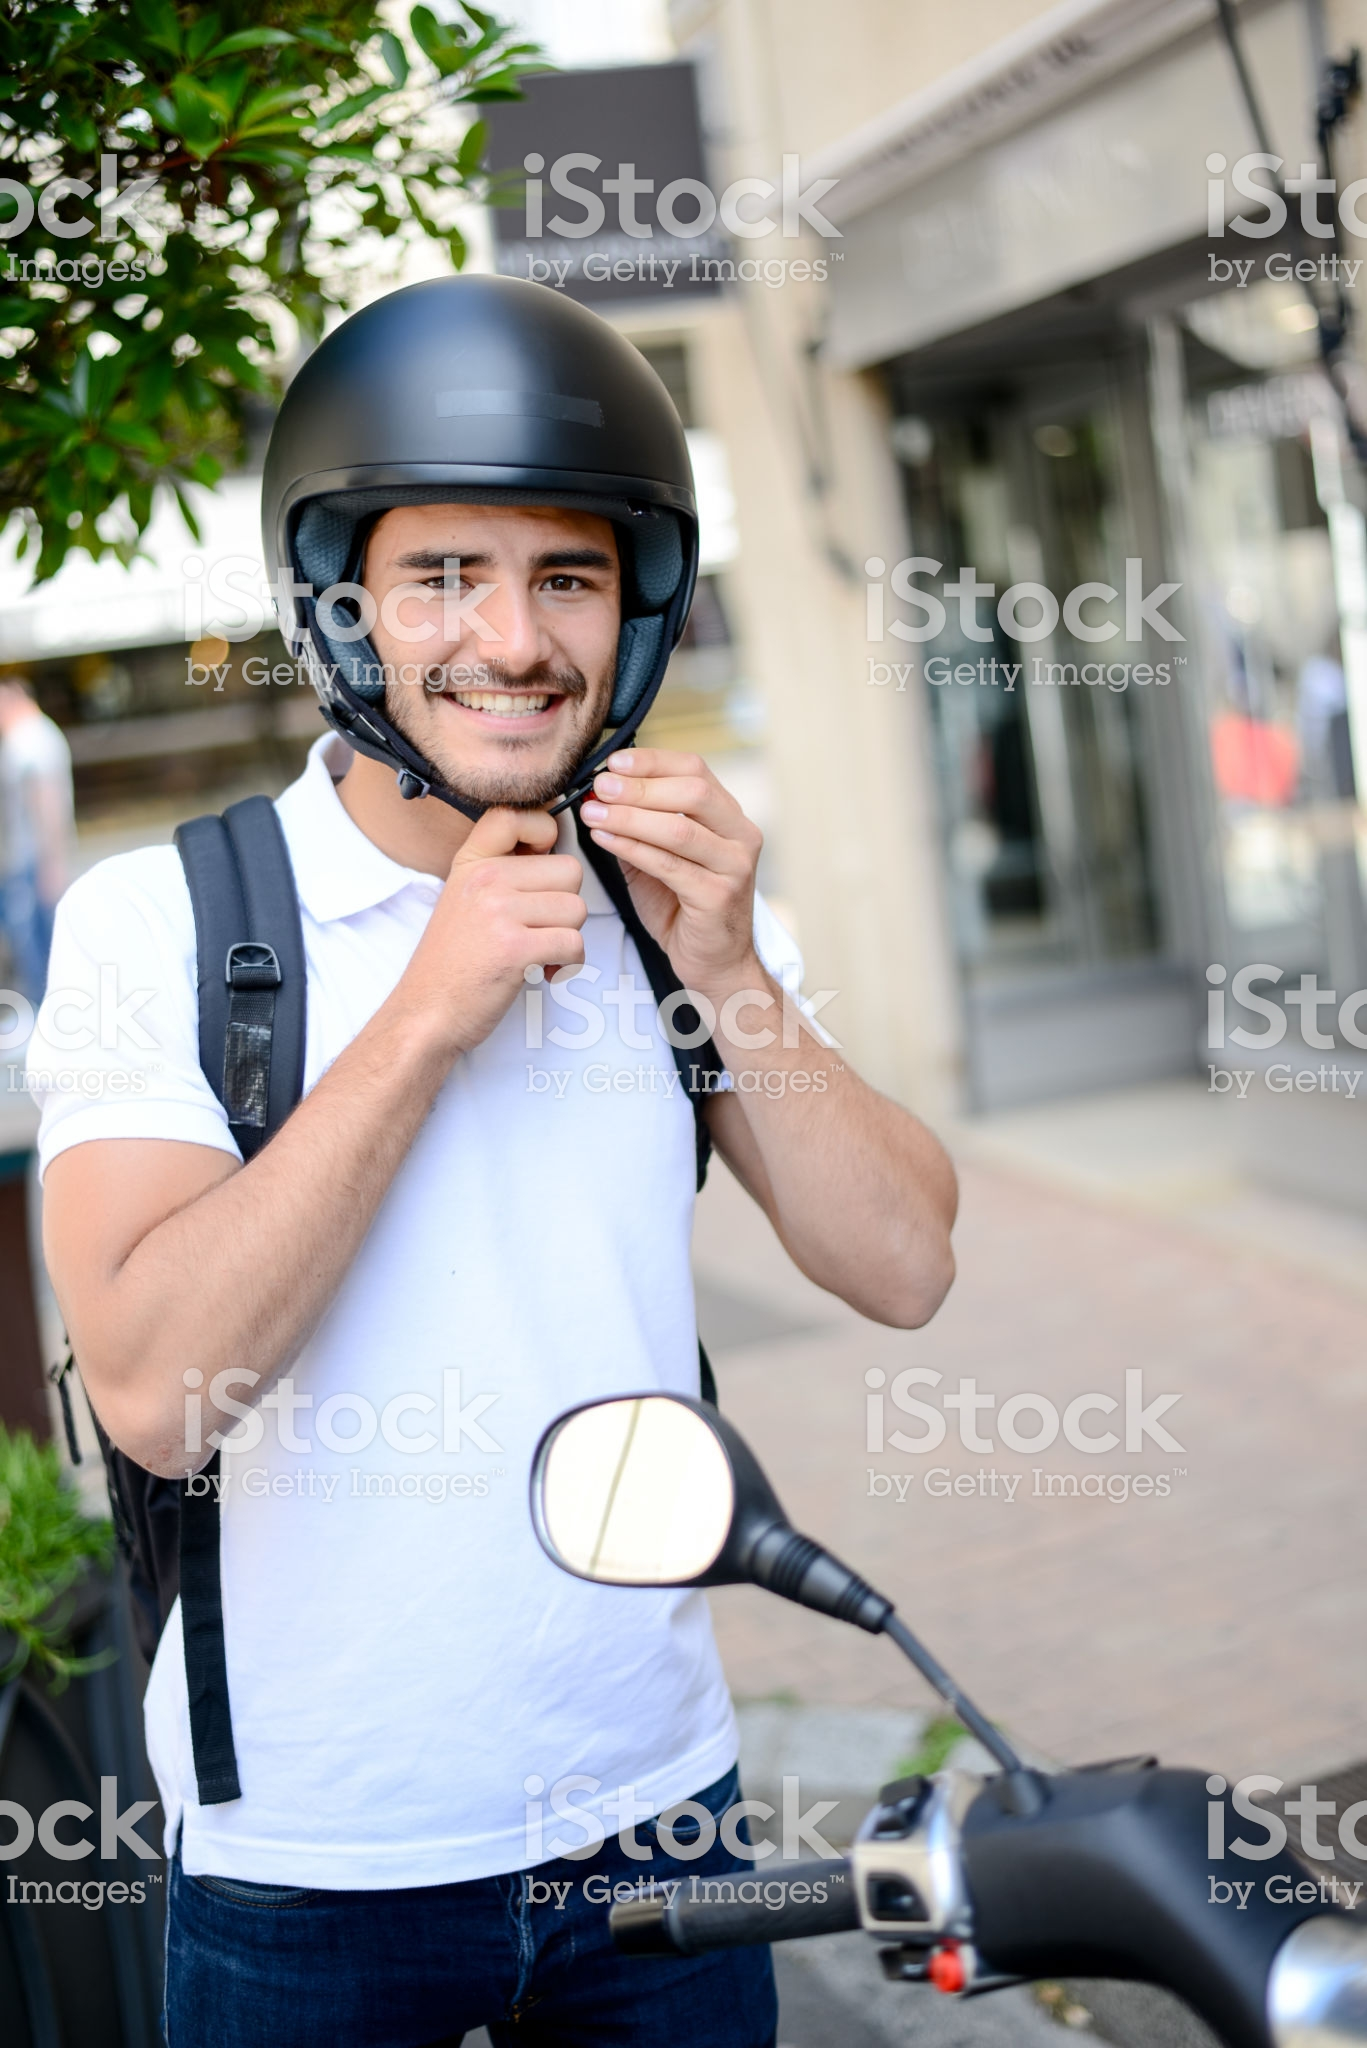helmet: (227, 316, 728, 744)
